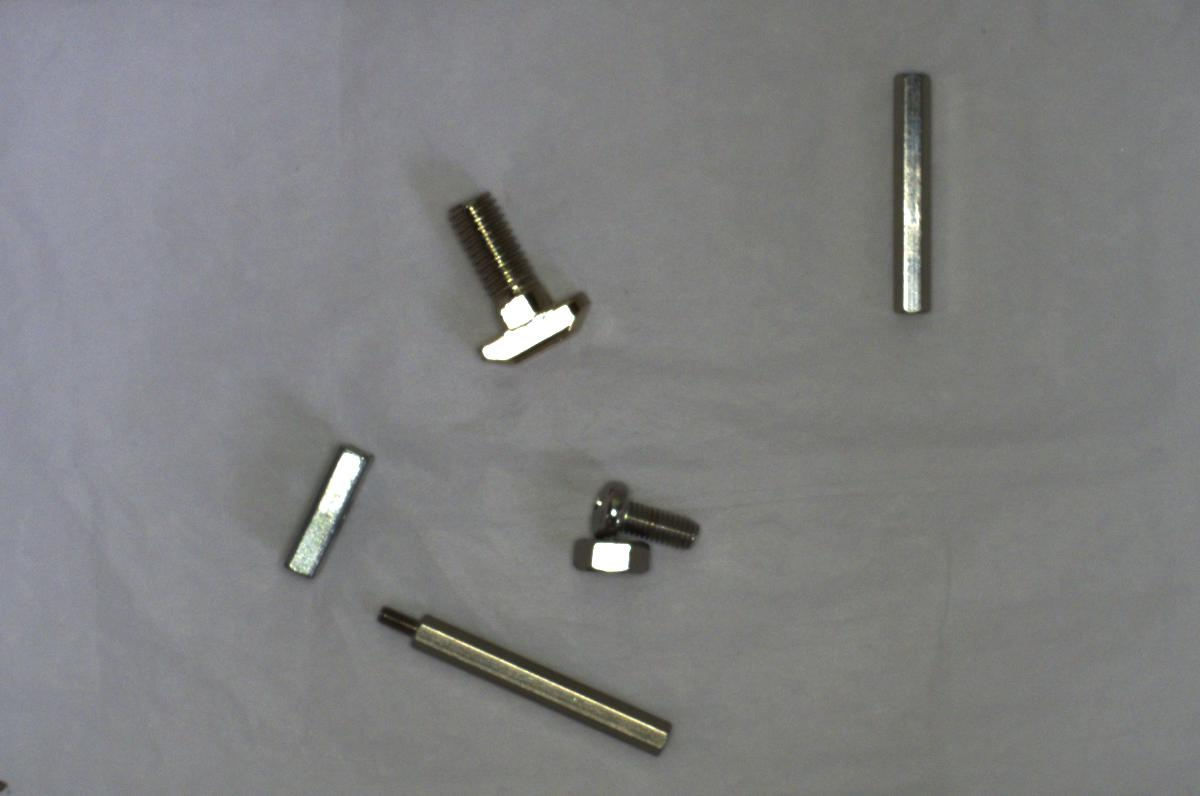Double hexagonal column: (881, 67, 932, 326)
Hexagon nut: (565, 533, 662, 583)
Hexagonal steel column: (366, 599, 677, 762)
Rectangular nut: (273, 436, 371, 580)
Round head screw: (582, 474, 702, 552)
T-shaped screw: (435, 181, 594, 368)
